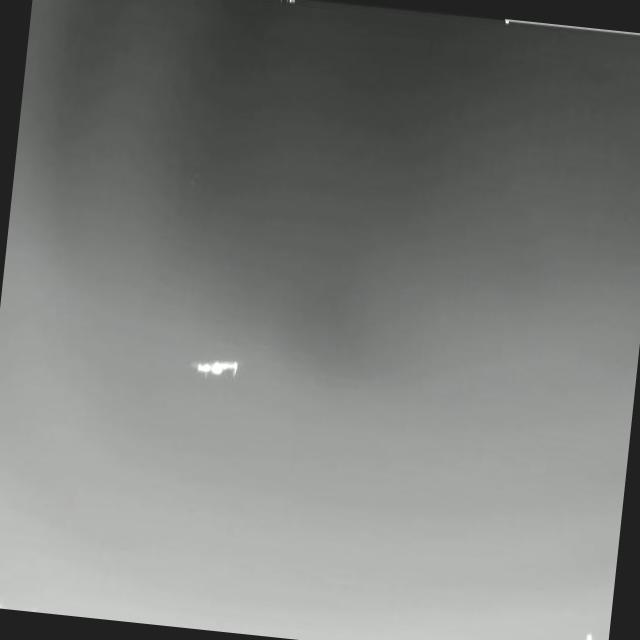DRONE: (182, 344, 248, 390)
